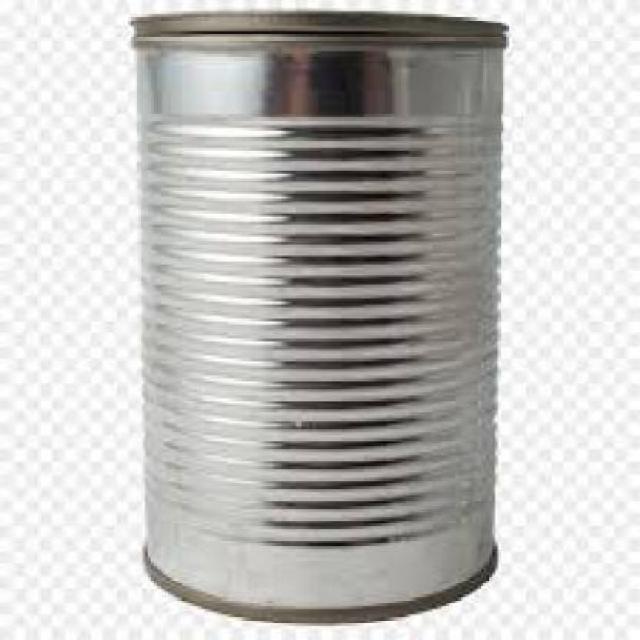METAL: (125, 11, 504, 623)
